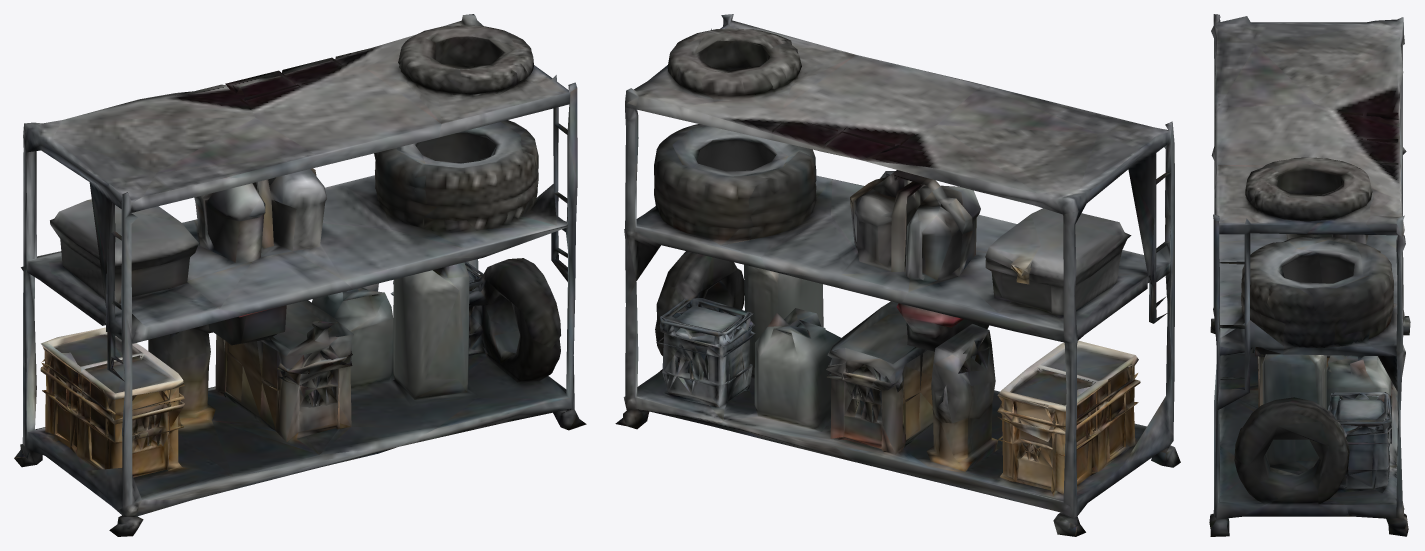
Rendered from gr_shelf2.glb.
3 views of the same model, side by side, from view 1: azimuth 30°, elevation 25°; view 2: azimuth 150°, elevation 25°; view 3: azimuth 270°, elevation 25° (orthographic). The views are drawn at different scales.
Parts seen in each view (by area): view 1: tripo_node_48b79816-a7ef-4e16-991b-c29df154c5ee; view 2: tripo_node_48b79816-a7ef-4e16-991b-c29df154c5ee; view 3: tripo_node_48b79816-a7ef-4e16-991b-c29df154c5ee.
Part boxes in pixels (<box>): tripo_node_48b79816-a7ef-4e16-991b-c29df154c5ee: <box>14,14,586,536</box>; tripo_node_48b79816-a7ef-4e16-991b-c29df154c5ee: <box>615,14,1180,536</box>; tripo_node_48b79816-a7ef-4e16-991b-c29df154c5ee: <box>1209,14,1410,536</box>.
Bounding box in the file's own units: 0.9801 × 0.7104 × 0.3938.
1 material, 1 textured.
